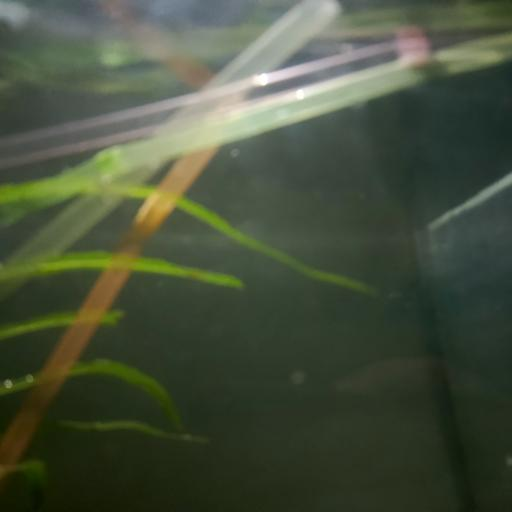plastic_straw: (0, 41, 512, 278), (0, 73, 239, 512), (0, 36, 512, 186), (1, 0, 512, 76)
